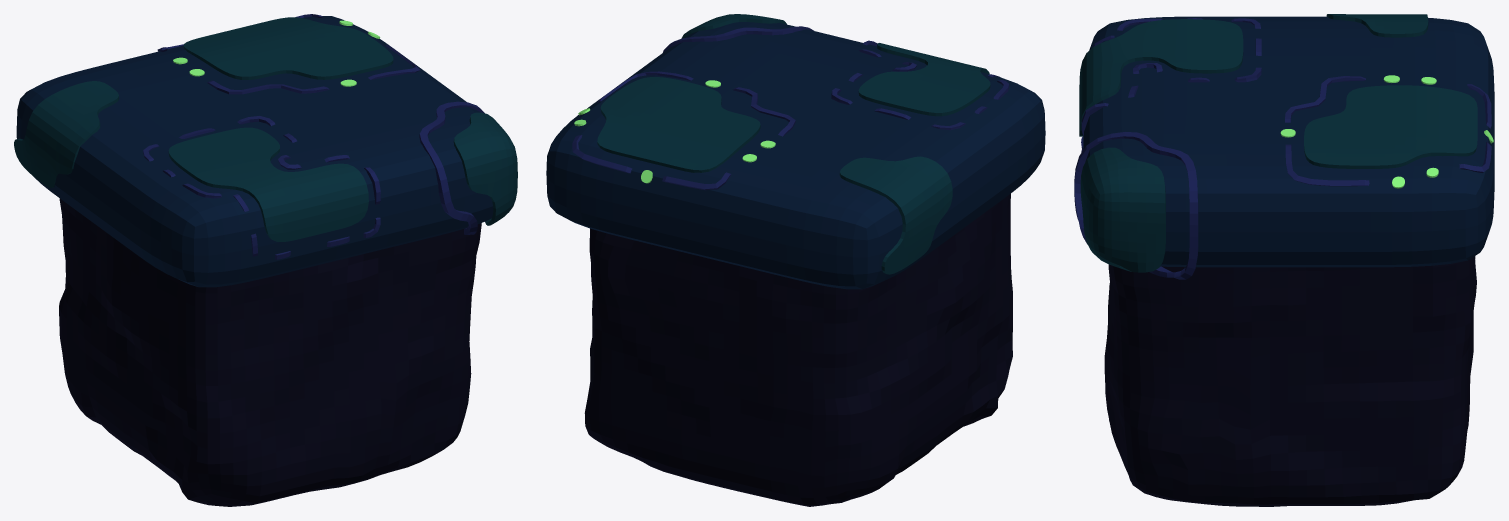
The model's file is st3_ground3.fbx.
3 renders of one model, left to right at view 1: azimuth 30°, elevation 25°; view 2: azimuth 150°, elevation 25°; view 3: azimuth 270°, elevation 25°, orthographic. The views are drawn at different scales.
Visible parts, largest first — view 1: block1_soil_1; view 2: block1_soil_1; view 3: block1_soil_1.
Part boxes in pixels (bbox=[...]): block1_soil_1: bbox=[14, 14, 517, 506]; block1_soil_1: bbox=[546, 14, 1045, 506]; block1_soil_1: bbox=[1074, 14, 1494, 506].
Size of the model in its own units: 241 by 225 by 232.
